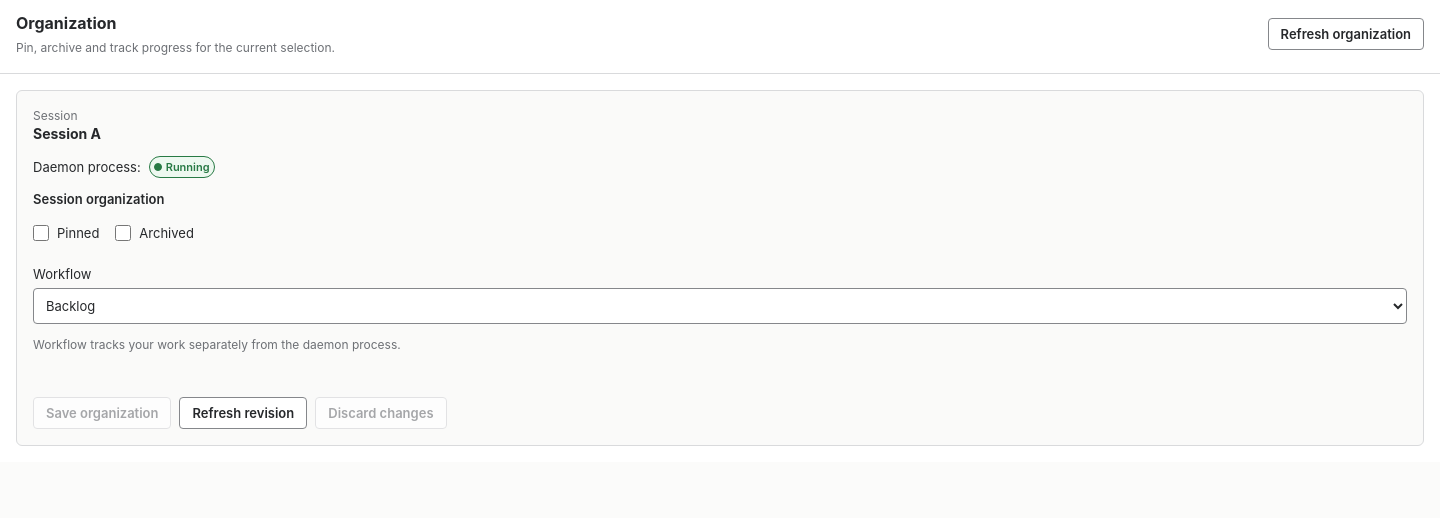
Test case: OrganizationPanel › explicitly saves an archived active session and workflow while showing its unchanged process status
Expected: the checkbox labelled "Archived" is enabled, left=115, top=225, right=131, bottom=241
Click the checkbox labelled "Pinned".
click(41, 233)  # box left=33, top=225, right=49, bottom=241
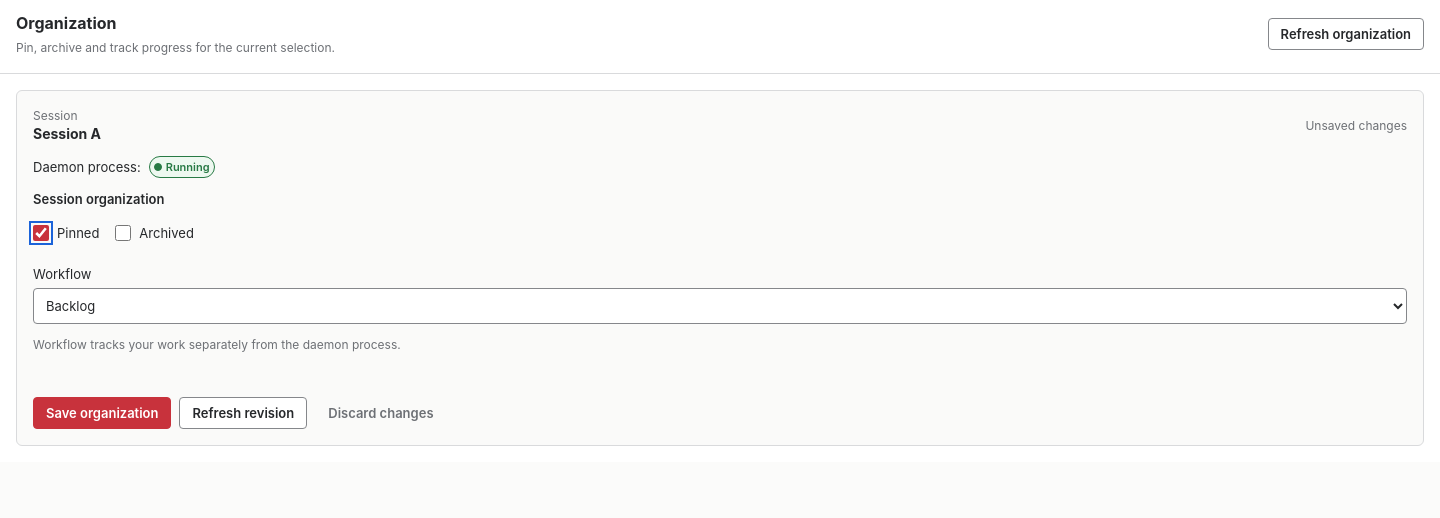
Click the checkbox labelled "Archived".
click(123, 233)  # box left=115, top=225, right=131, bottom=241
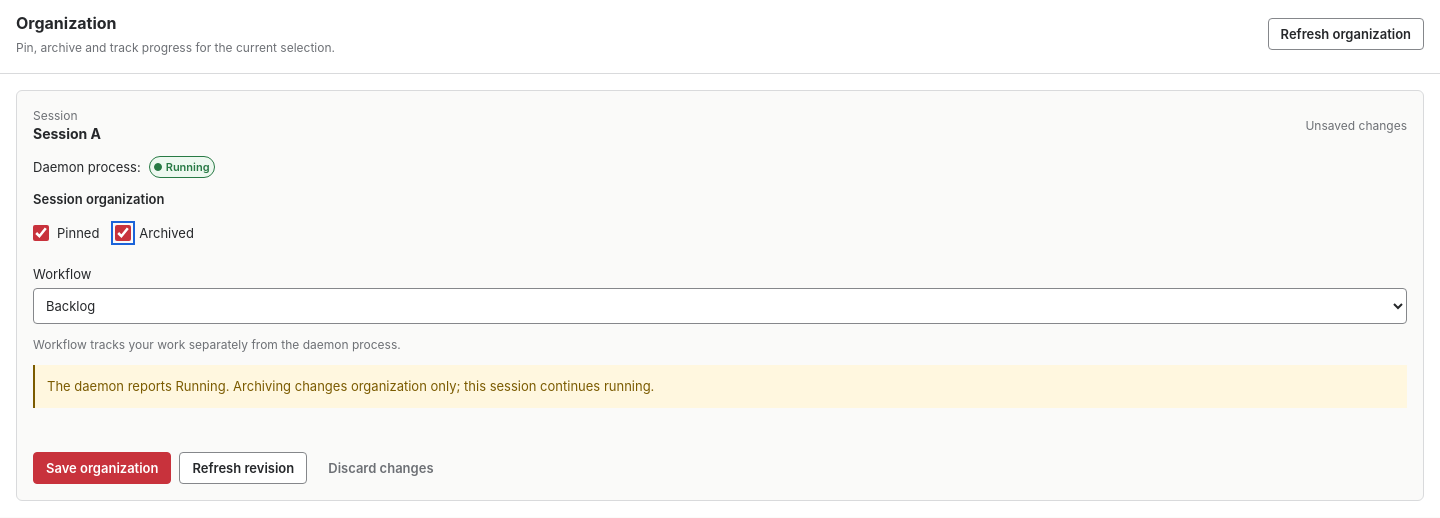
Select "Done" in the dropdown labelled "Workflow" at (720,306), box left=33, top=288, right=1407, bottom=324
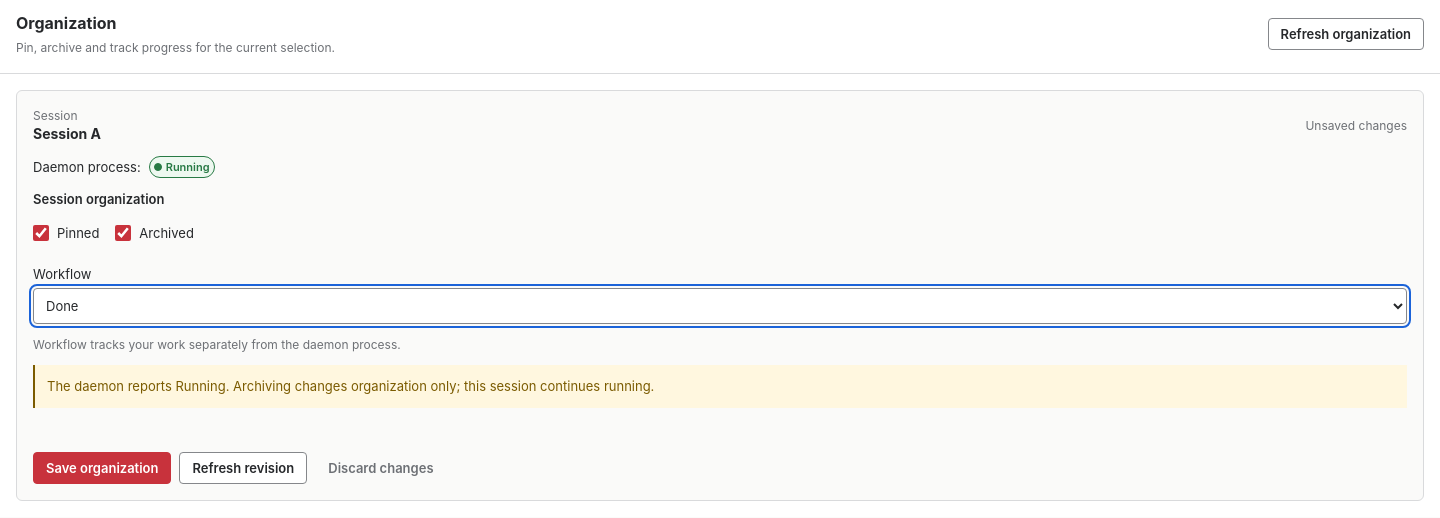
Expected: the element named "Session status: Running" is shown, left=149, top=156, right=215, bottom=178
Expected: the text "this session continues running" is shown, left=226, top=378, right=654, bottom=394
Click the button "Save organization".
click(102, 468)  # box left=33, top=452, right=172, bottom=484
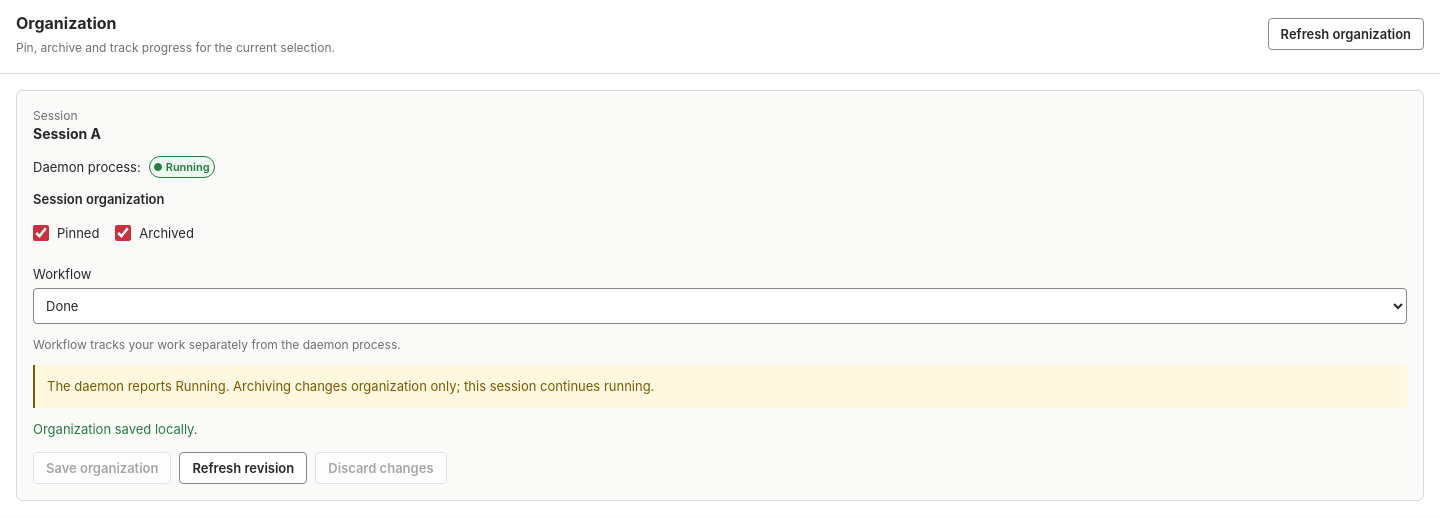
Expected: the element named "Session status: Running" is shown, left=149, top=156, right=215, bottom=178
Expected: the text "Organization saved locally." is shown, left=33, top=421, right=198, bottom=437
